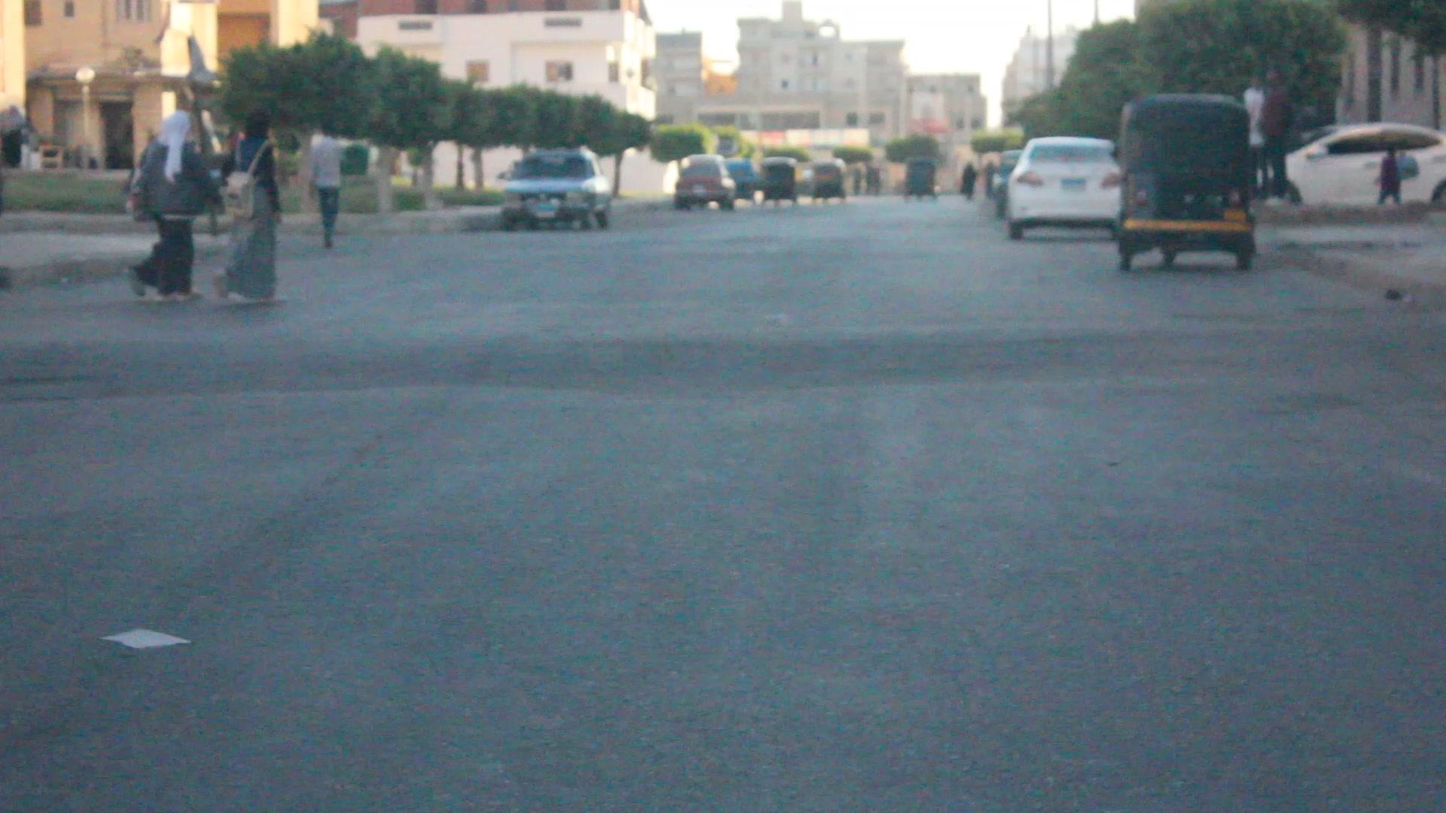Bump: (4, 312, 1446, 399)
